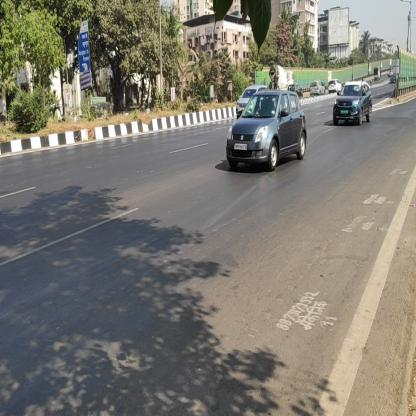license: (234, 142, 248, 152)
